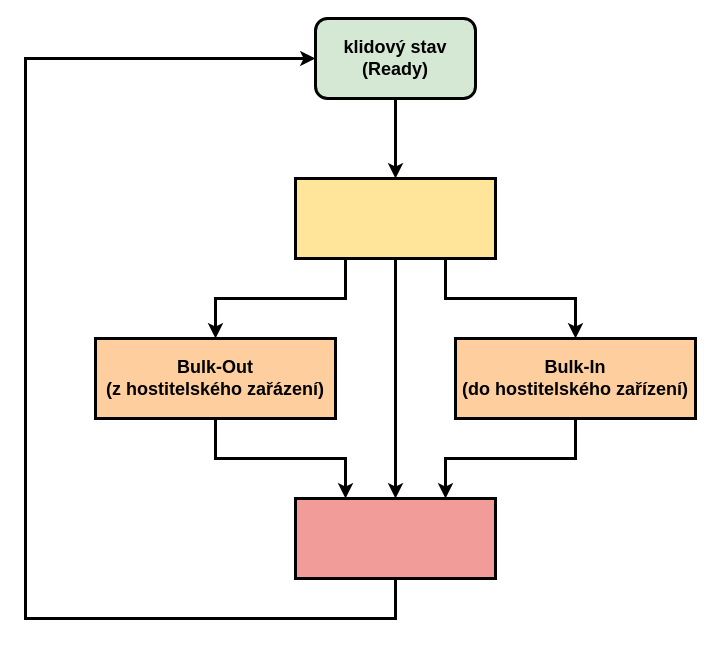
The diagram is 714 pixels wide and 645 high, and some of its shapes have lost their labels. The shapes that lost their labels are listed below. From the top down, each one's centre as x and y in pixels, then its label:
At (x=395, y=218): "Command Transport (CBW)".
At (x=395, y=538): "Status Transport (CSW)".
